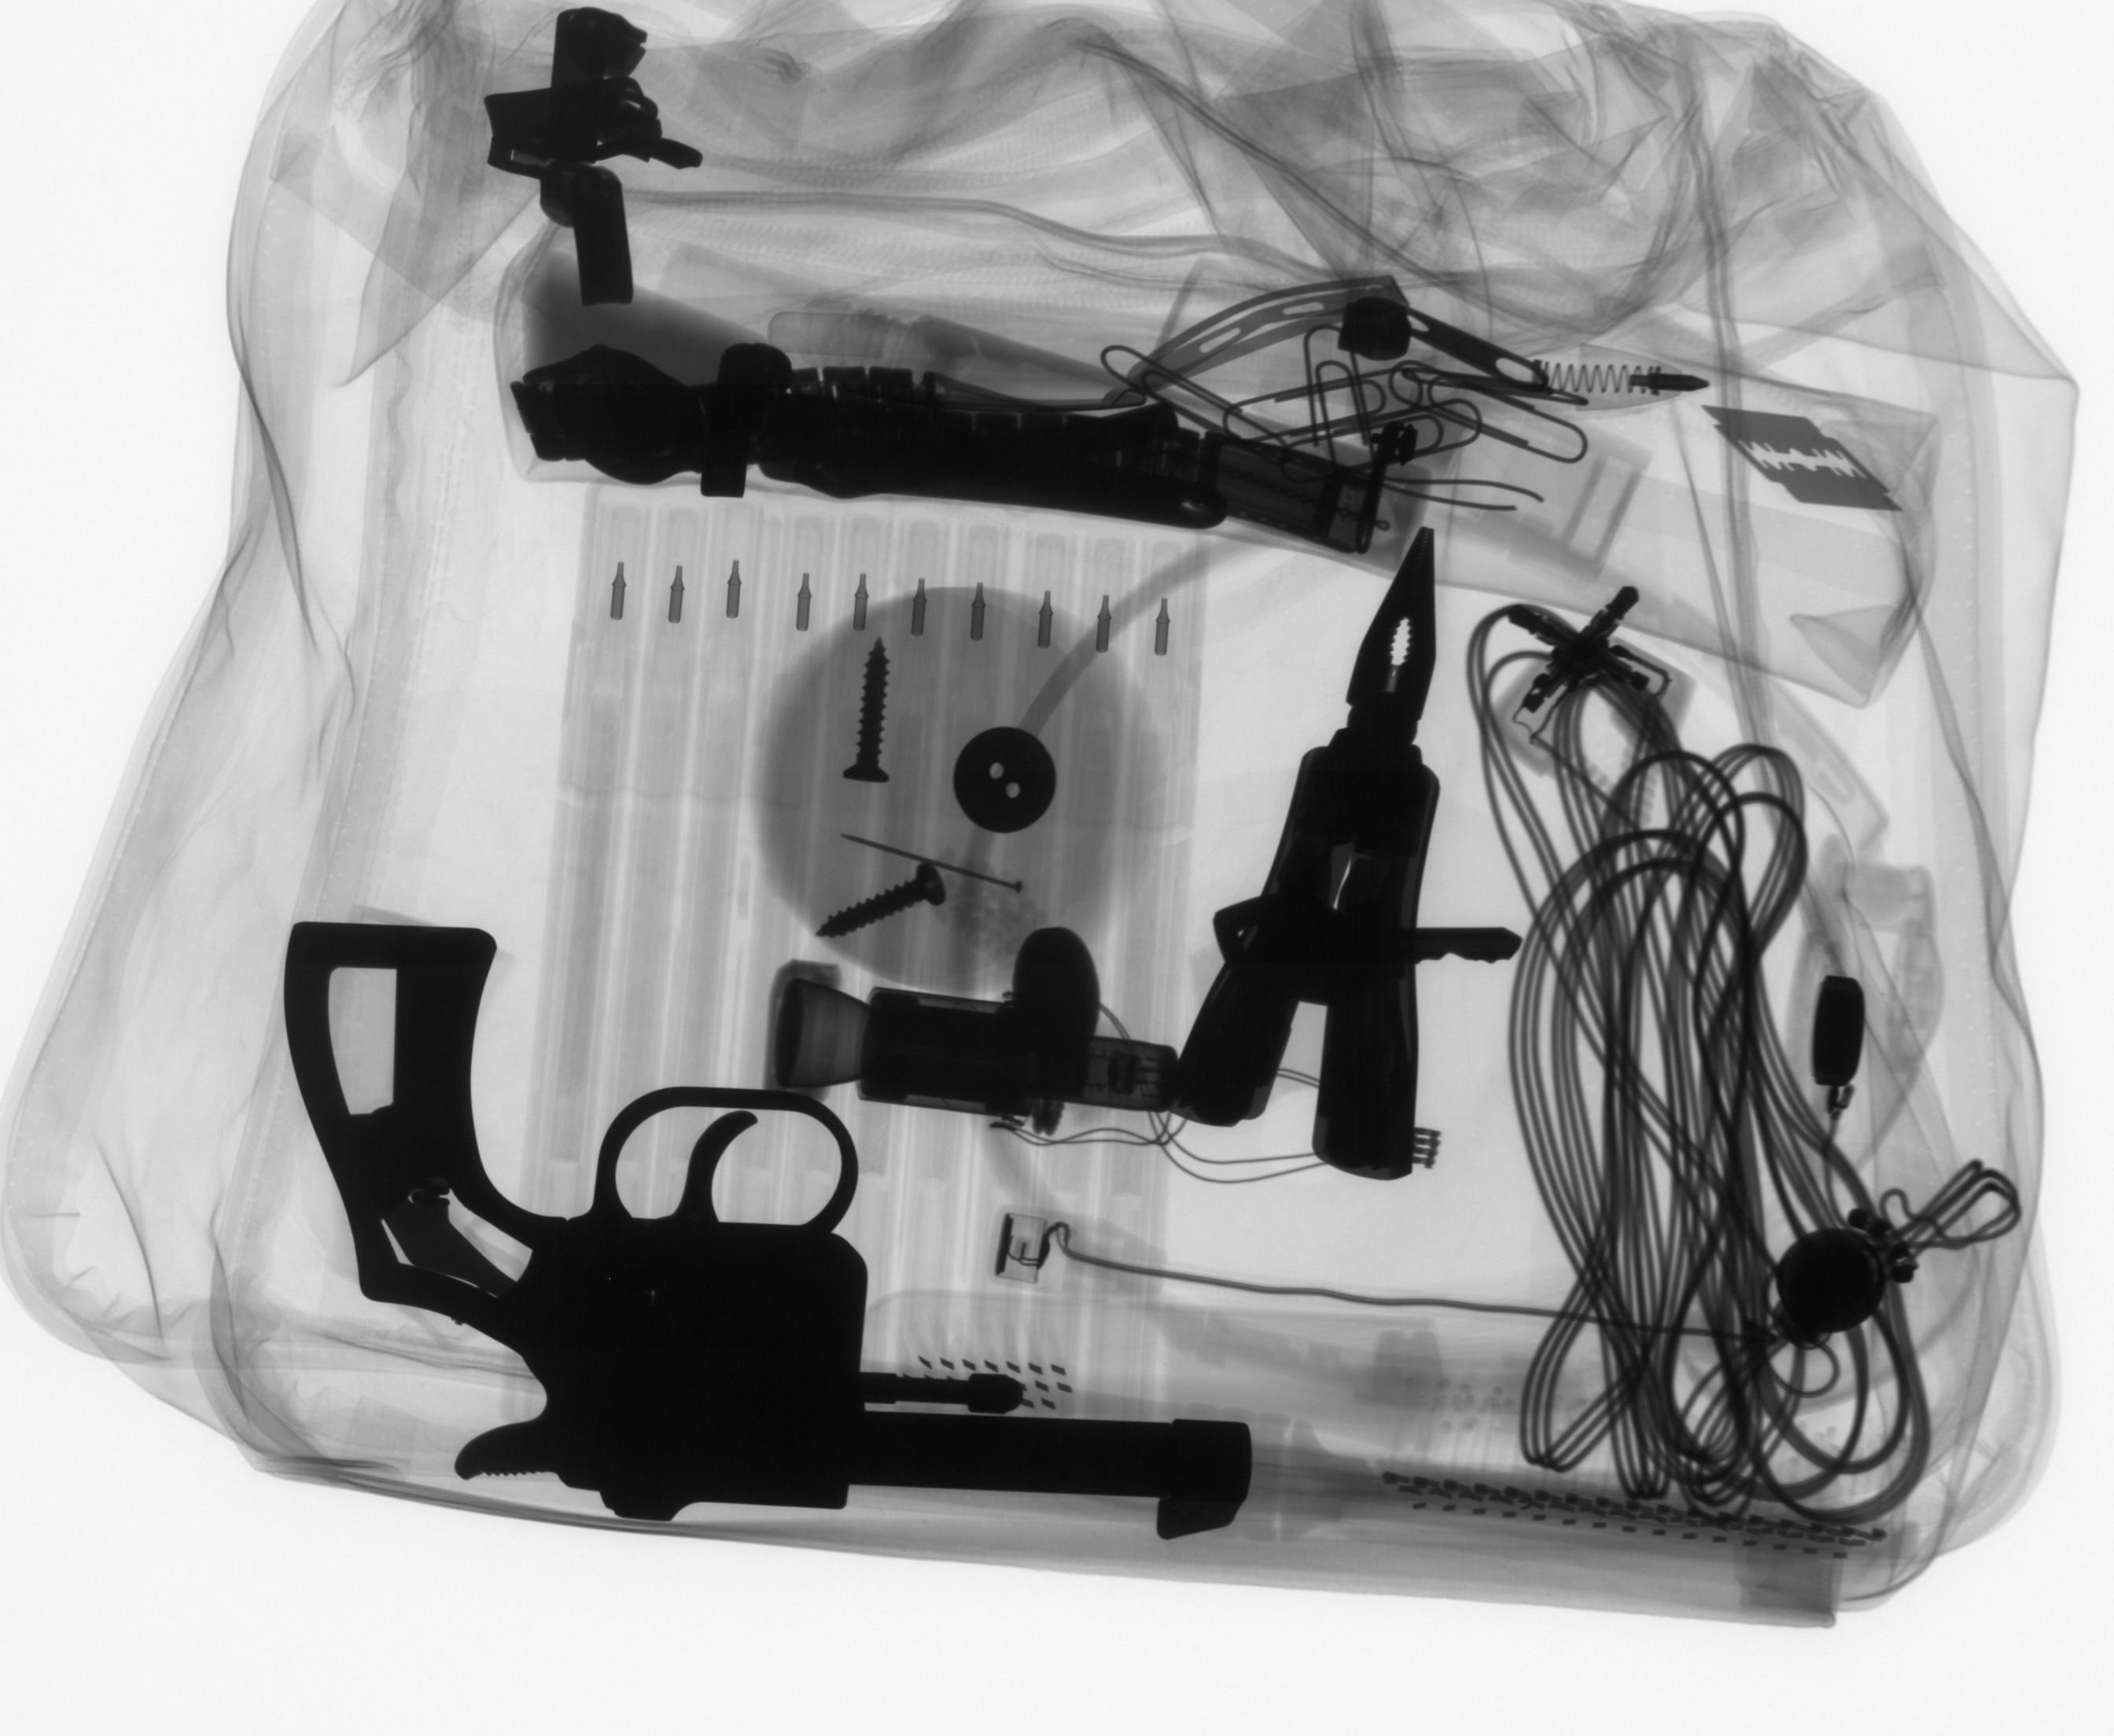Handgun: (274, 912, 1261, 1558)
